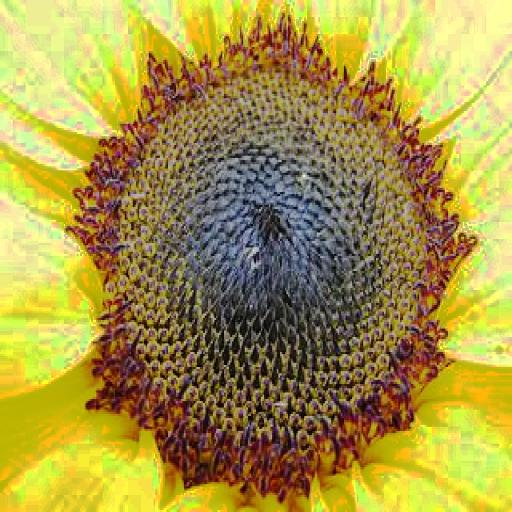sunflower: (3, 0, 511, 512)
